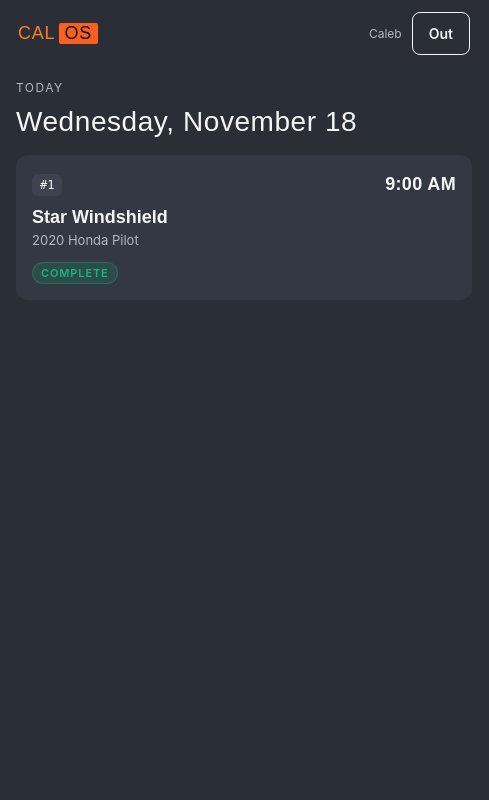
Scenario: Retry on the field job shows the new draft when the list is still old
The width and height of the screenshot is (489, 800).
Click the button with test id "field-job-job-1" at (47, 184), box x1=16 y1=155 x2=472 y2=300
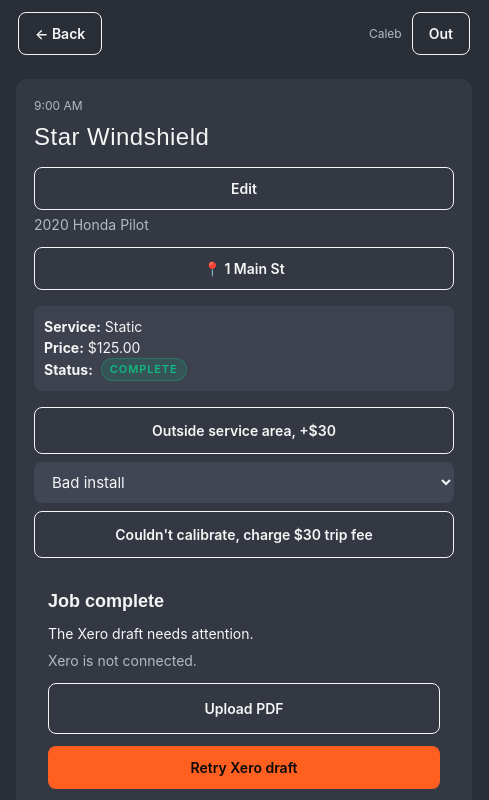
Click the button with test id "retry-xero-draft" at (244, 767), box x1=48 y1=746 x2=440 y2=788
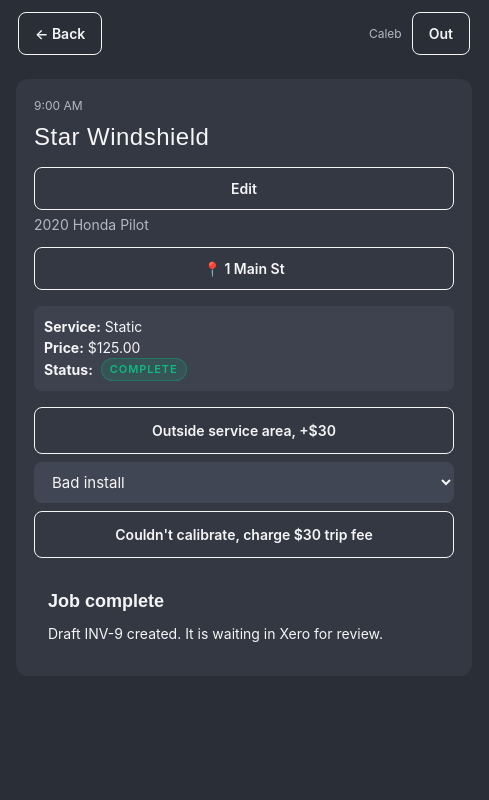
Now the text "Draft INV-9 created" is shown, box x1=48 y1=622 x2=440 y2=644
Now the button with test id "retry-xero-draft" is gone
